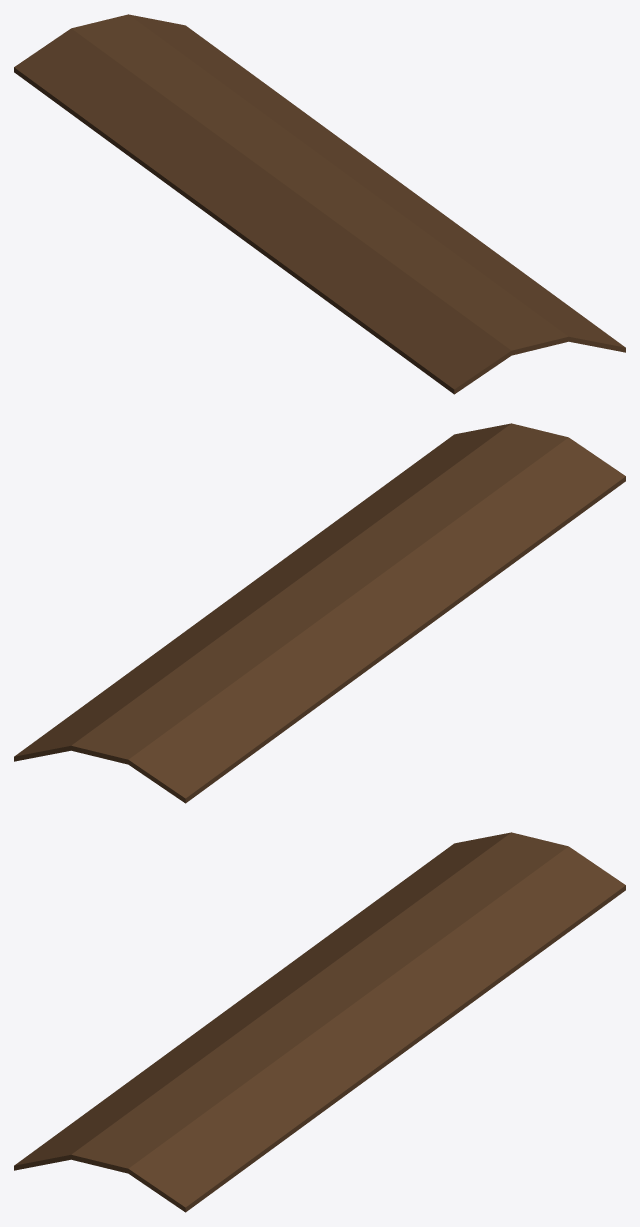
Rendered from Roof 1.fbx.
3 views of the same model, one above another, from view 1: azimuth 30°, elevation 25°; view 2: azimuth 150°, elevation 25°; view 3: azimuth 330°, elevation 25° (orthographic).
Parts seen in each view (by area): view 1: Roof 1; view 2: Roof 1; view 3: Roof 1.
Part boxes in pixels (x1,y1,x2,y2): Roof 1: (14, 14, 625, 394); Roof 1: (14, 423, 625, 803); Roof 1: (14, 832, 625, 1212).
Size of the model in its own units: 360 by 60 by 1600.
